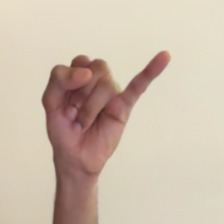J: (24, 27, 177, 181)
